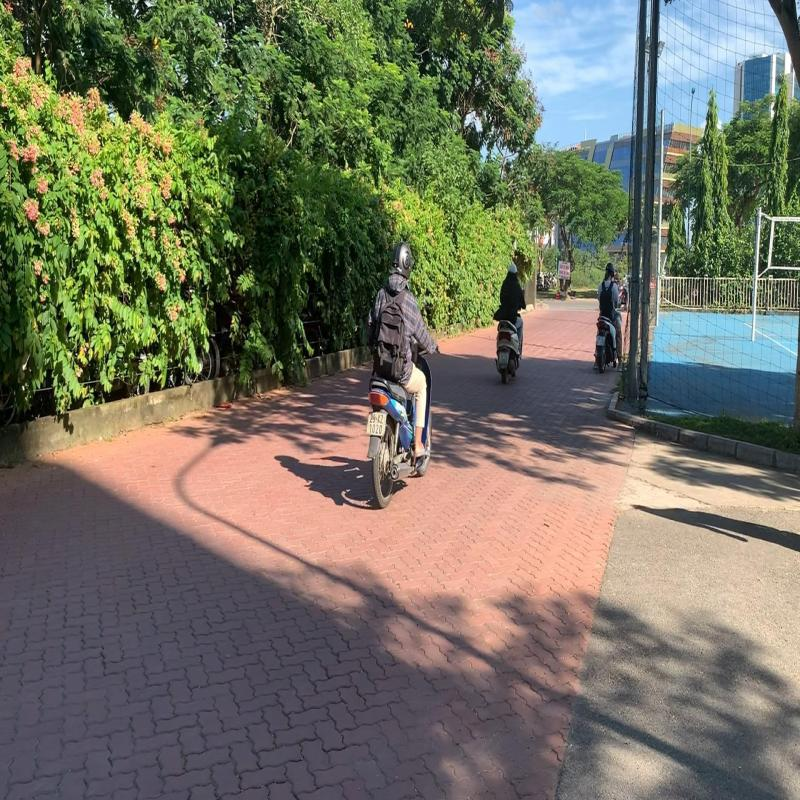helmet: (390, 241, 414, 279)
licenseplate: (366, 410, 387, 438)
motorcyclist: (364, 237, 443, 511)
